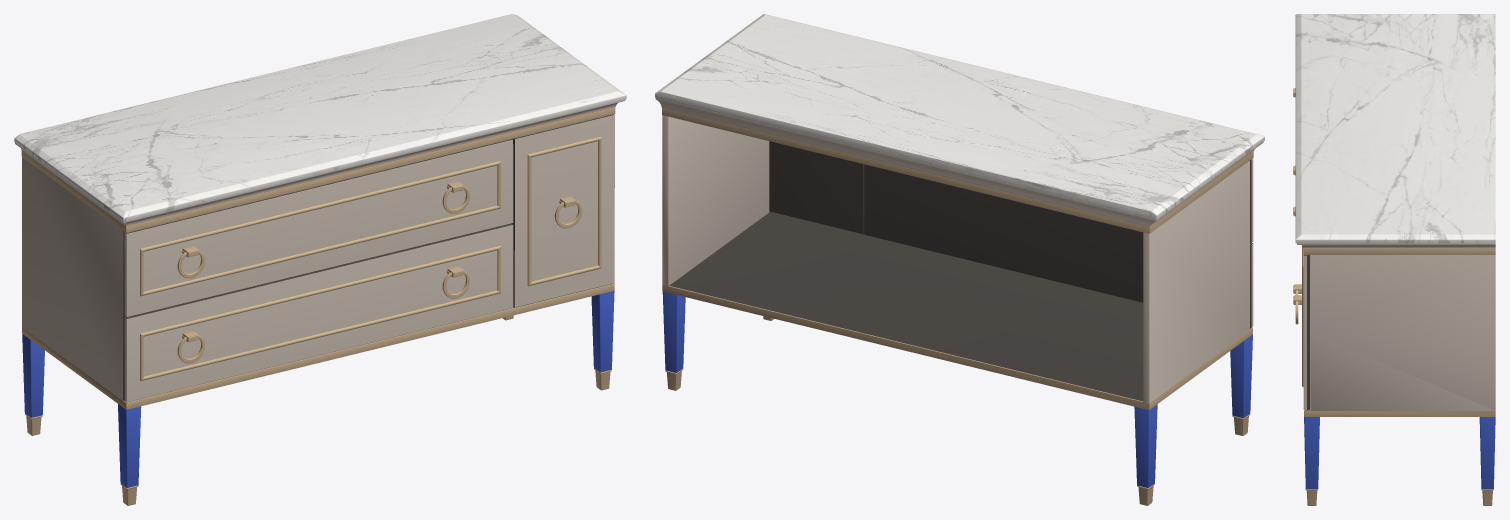
3 views of the same model, side by side, from view 1: azimuth 30°, elevation 25°; view 2: azimuth 150°, elevation 25°; view 3: azimuth 270°, elevation 25° (orthographic). The views are drawn at different scales.
Parts seen in each view (by area): view 1: AV07; view 2: AV07; view 3: AV07.
Boxes of the visible parts, left/top/right/bottom form: AV07: left=14, top=14, right=626, bottom=505; AV07: left=655, top=14, right=1264, bottom=505; AV07: left=1293, top=14, right=1495, bottom=505.
Bounding box in the file's own units: 1.49 × 0.847 × 0.567.
Materials: 6 (3 with a texture image).
